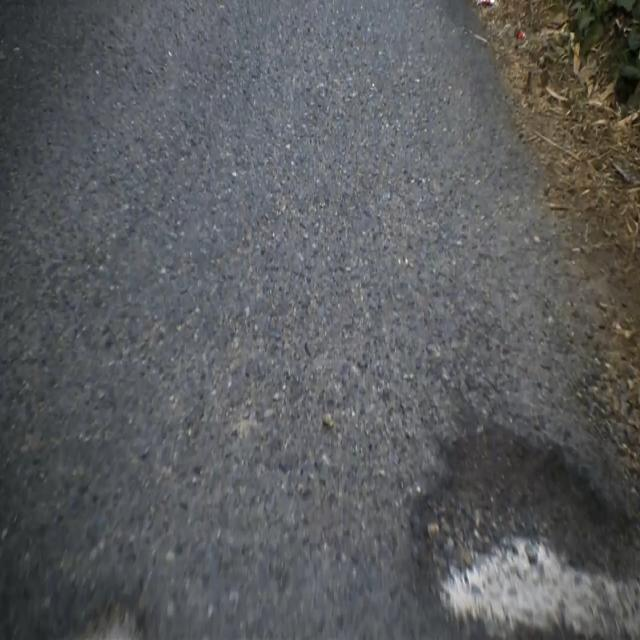Pothole: (391, 409, 640, 640)
